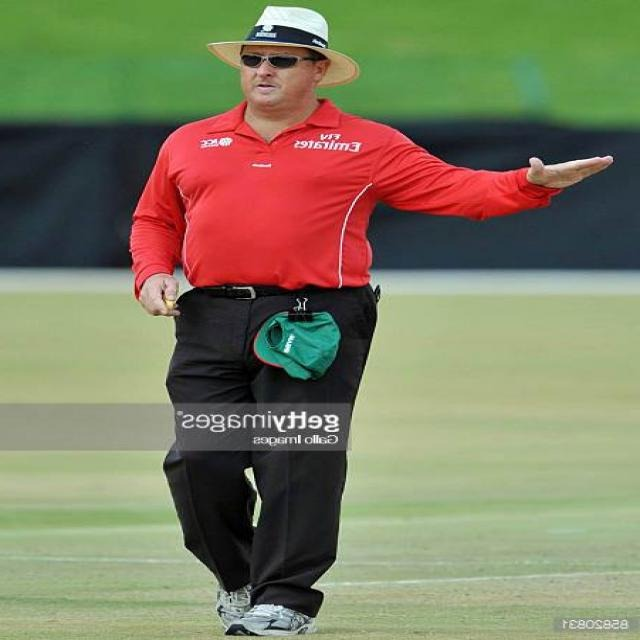No_Ball: (124, 0, 620, 638)
